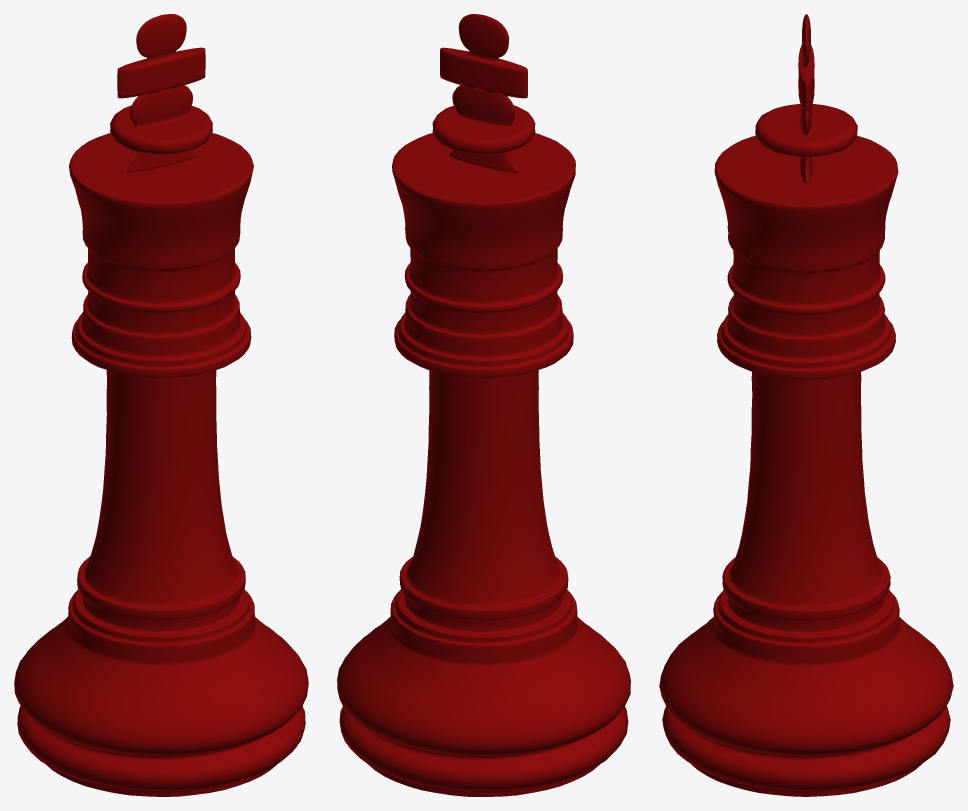
3 views of the same model, side by side, from view 1: azimuth 30°, elevation 25°; view 2: azimuth 150°, elevation 25°; view 3: azimuth 270°, elevation 25° (orthographic).
Visible parts, largest first — view 1: King_02; view 2: King_02; view 3: King_02.
Boxes of the visible parts, x1=… form: King_02: x1=14, y1=14, x2=308, y2=796; King_02: x1=337, y1=14, x2=630, y2=796; King_02: x1=659, y1=14, x2=953, y2=796.
Bounding box in the file's own units: 0.3345 × 0.9105 × 0.3345.
